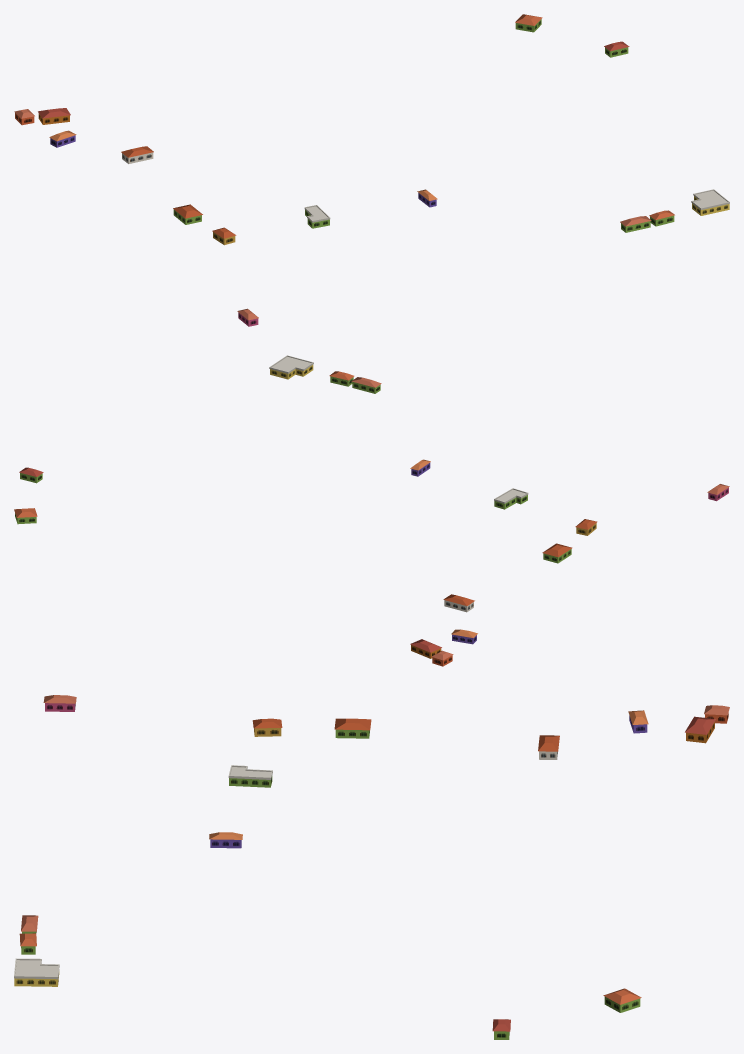
The model's file is msb_noord_m17_m9.glb.
The picture shows the model from 3 angles, top to bottom: view 1: azimuth 30°, elevation 25°; view 2: azimuth 150°, elevation 25°; view 3: azimuth 270°, elevation 25°; orthographic projection. The views are drawn at different scales.
Visible parts, largest first — view 1: msb_noord_m17_m9_lod0; view 2: msb_noord_m17_m9_lod0; view 3: msb_noord_m17_m9_lod0.
Part boxes in pixels (bbox=[...]): msb_noord_m17_m9_lod0: bbox=[14, 14, 729, 326]; msb_noord_m17_m9_lod0: bbox=[14, 355, 729, 666]; msb_noord_m17_m9_lod0: bbox=[14, 695, 729, 1039].
Size of what is drawn, in the model's own units: 294 by 11.7 by 255.
3 materials, 1 textured.
